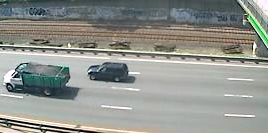car: (1, 60, 74, 98), (86, 61, 131, 84)
